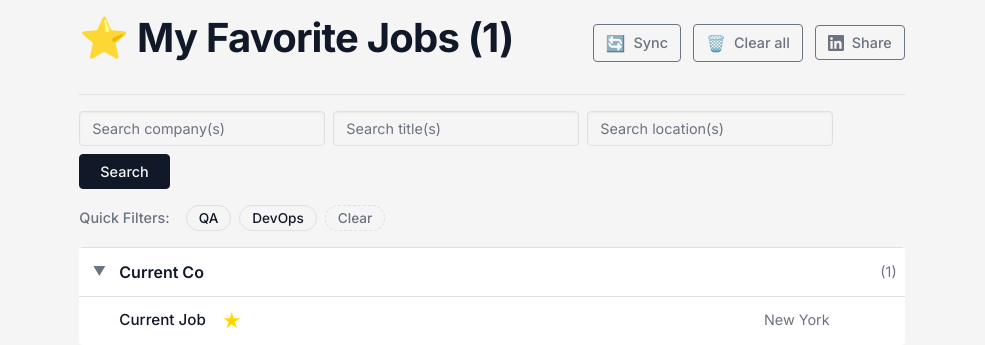
Scenario: FavoritesPage › shows up-to-date message when all favorites are still in the live feed
This screenshot has width=985, height=345.
Click the button "🔄 Sync": [637, 42] box top-left (592, 24), bottom-right (681, 62)
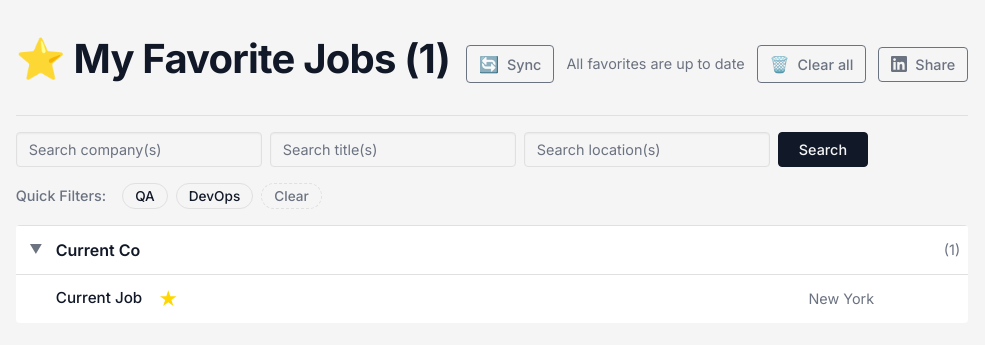
Result: the text "All favorites are up to date" is shown at top-left (566, 53), bottom-right (745, 75)
